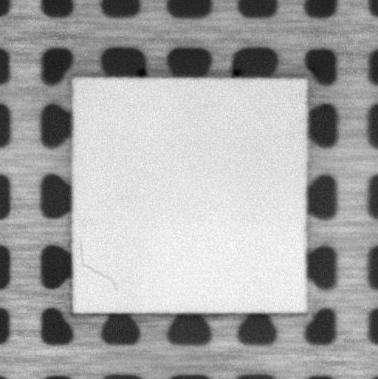DIE_CRACK: (79, 242, 121, 294)
